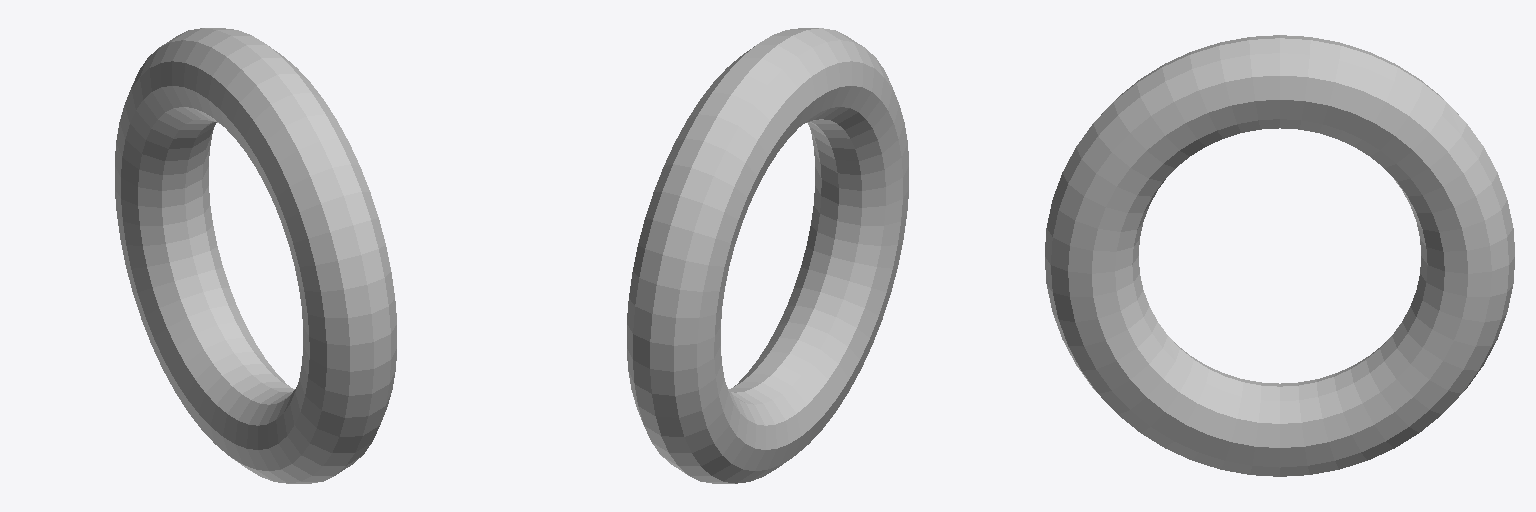
Rendered from chinadonut.obj.
3 views of the same model, side by side, from view 1: azimuth 30°, elevation 25°; view 2: azimuth 150°, elevation 25°; view 3: azimuth 270°, elevation 25° (orthographic).
Parts seen in each view (by area): view 1: Torus; view 2: Torus; view 3: Torus.
Boxes of the visible parts, <box> form: Torus: <box>115,28,396,483</box>; Torus: <box>627,28,908,483</box>; Torus: <box>1045,35,1514,476</box>.
Bounding box in the file's own units: 0.5916 × 2.5 × 2.5.